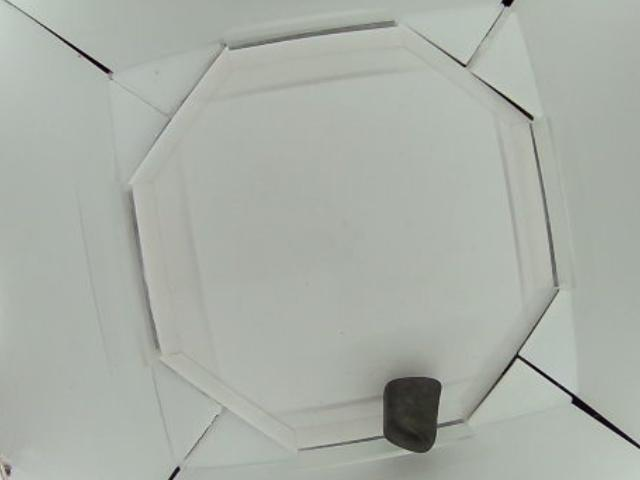Pebble: (383, 374, 439, 453)
